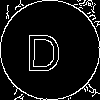D: (25, 25, 62, 72)
